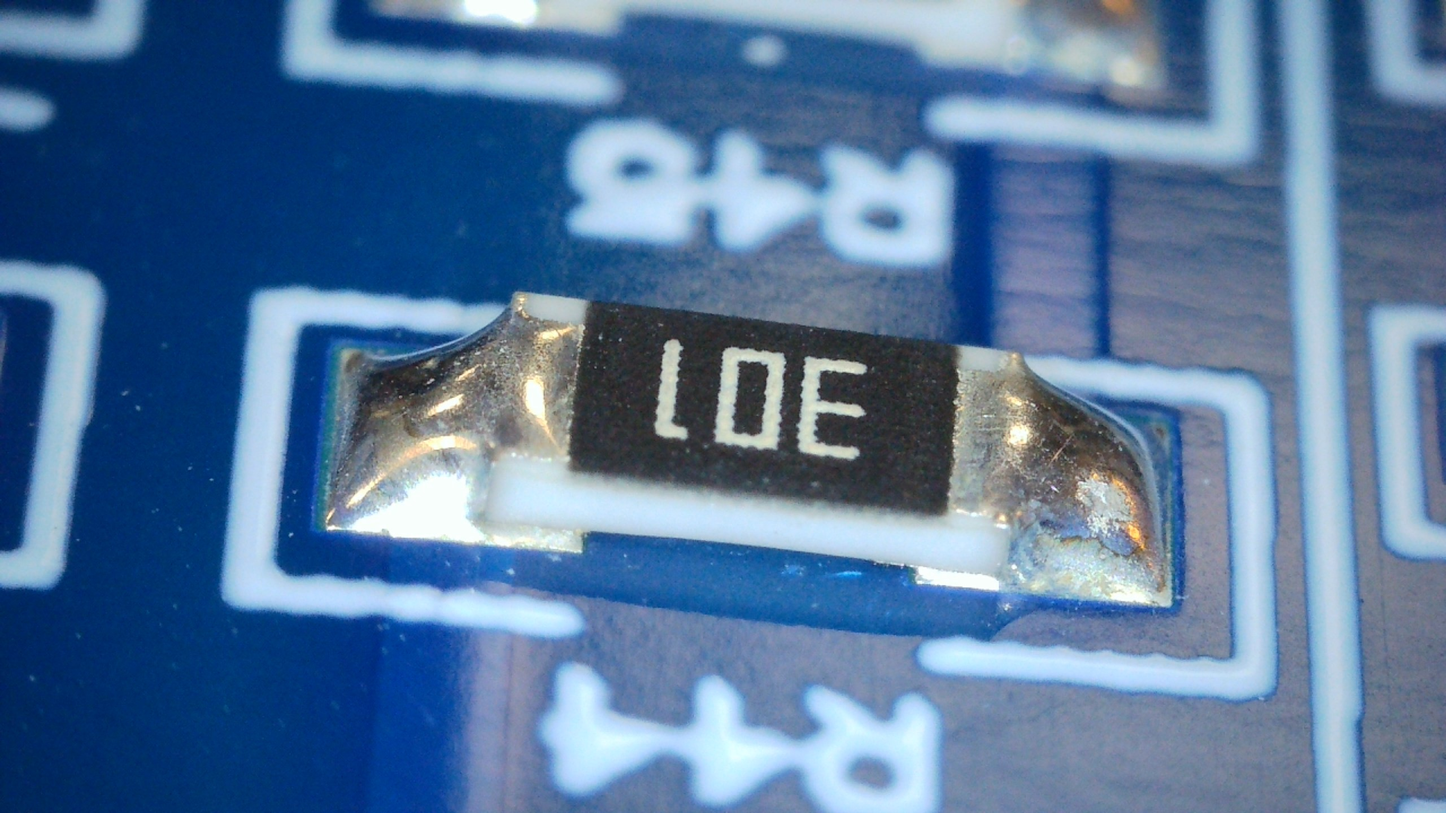NG: (947, 346, 1166, 601)
OK: (328, 293, 587, 531)
